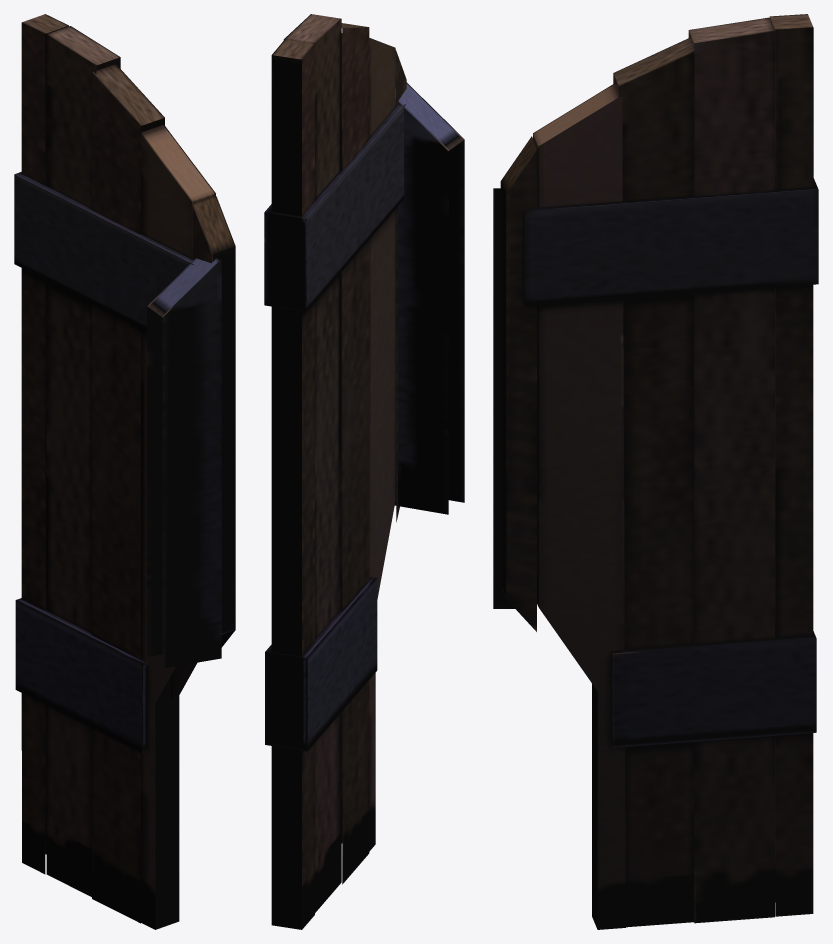
Rendered from DoorSide2F10.obj.
The picture shows the model from 3 angles, left to right: view 1: azimuth 30°, elevation 25°; view 2: azimuth 150°, elevation 25°; view 3: azimuth 270°, elevation 25°; orthographic projection. The views are drawn at different scales.
Visible parts, largest first — view 1: DoorSide2F10_Cube.431; view 2: DoorSide2F10_Cube.431; view 3: DoorSide2F10_Cube.431.
Part boxes in pixels (x1,y1,x2,y2): DoorSide2F10_Cube.431: (14,14,235,929); DoorSide2F10_Cube.431: (264,14,464,929); DoorSide2F10_Cube.431: (493,14,818,929).
Bounding box in the file's own units: 27.31 × 268 × 89.13.
1 material, 1 textured.
